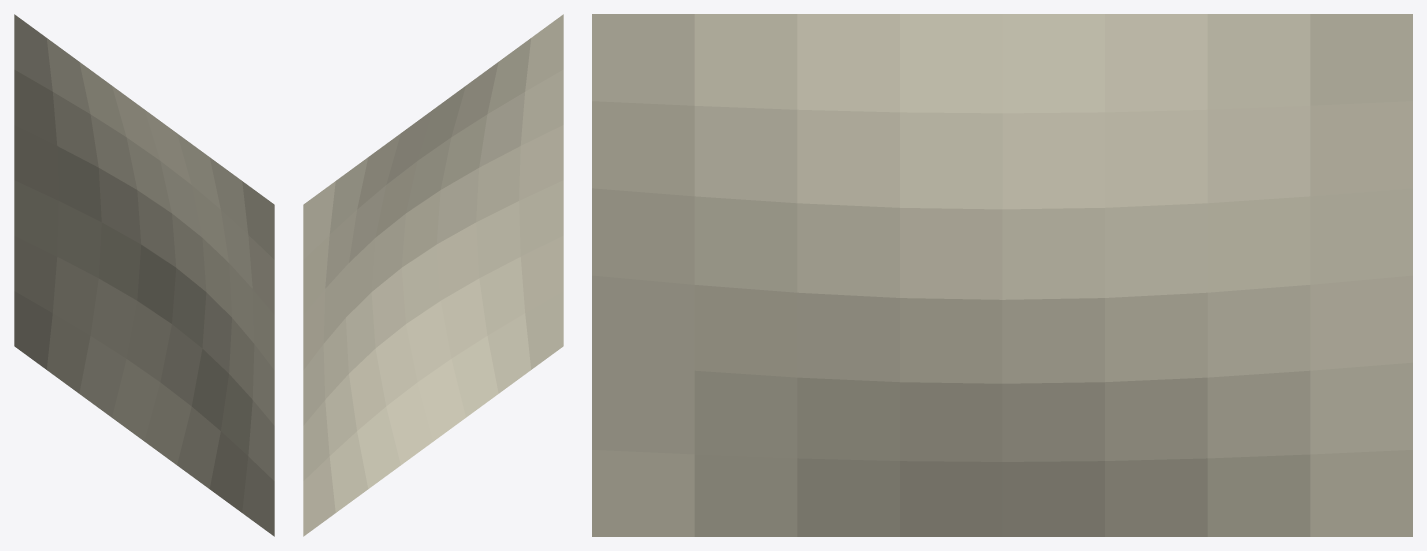
Rendered from reference_ship_sails.fbx.
3 views of the same model, side by side, from view 1: azimuth 30°, elevation 25°; view 2: azimuth 150°, elevation 25°; view 3: azimuth 270°, elevation 25° (orthographic). The views are drawn at different scales.
Parts seen in each view (by area): view 1: Square_sail; view 2: Square_sail; view 3: Square_sail.
Boxes of the visible parts, left/top/right/bottom form: Square_sail: left=14, top=14, right=274, bottom=536; Square_sail: left=303, top=14, right=563, bottom=536; Square_sail: left=592, top=14, right=1412, bottom=536.
Size of the model in its own units: 0.45 by 4.5 by 6.4.
